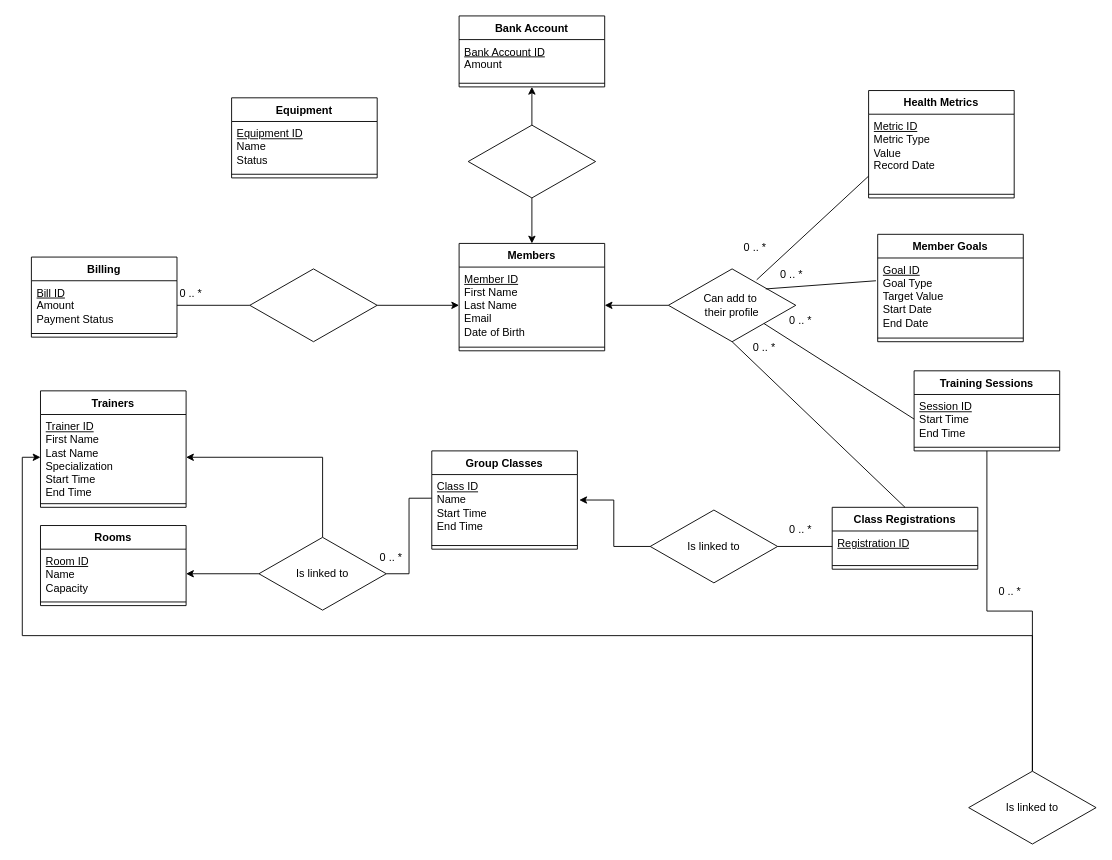
The diagram is 1112 pixels wide and 860 high, and some of its shapes have lost their labels. The centre of each missing label's shape, as x and y in pixels:
"Can be assigned" belongs at [313,305].
"Must have" belongs at [531,161].
